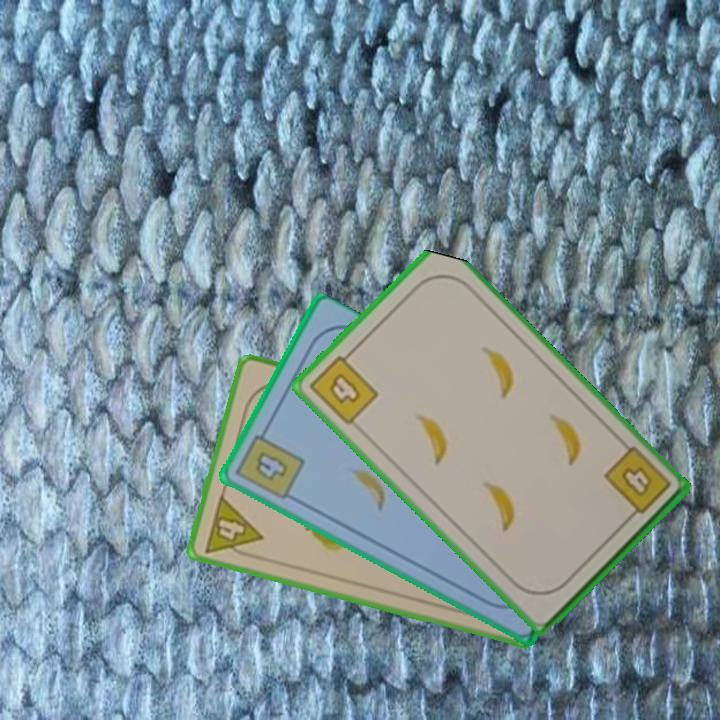4b: (305, 346, 381, 428), (599, 442, 674, 525), (232, 423, 308, 503)
4p: (200, 491, 266, 563)
